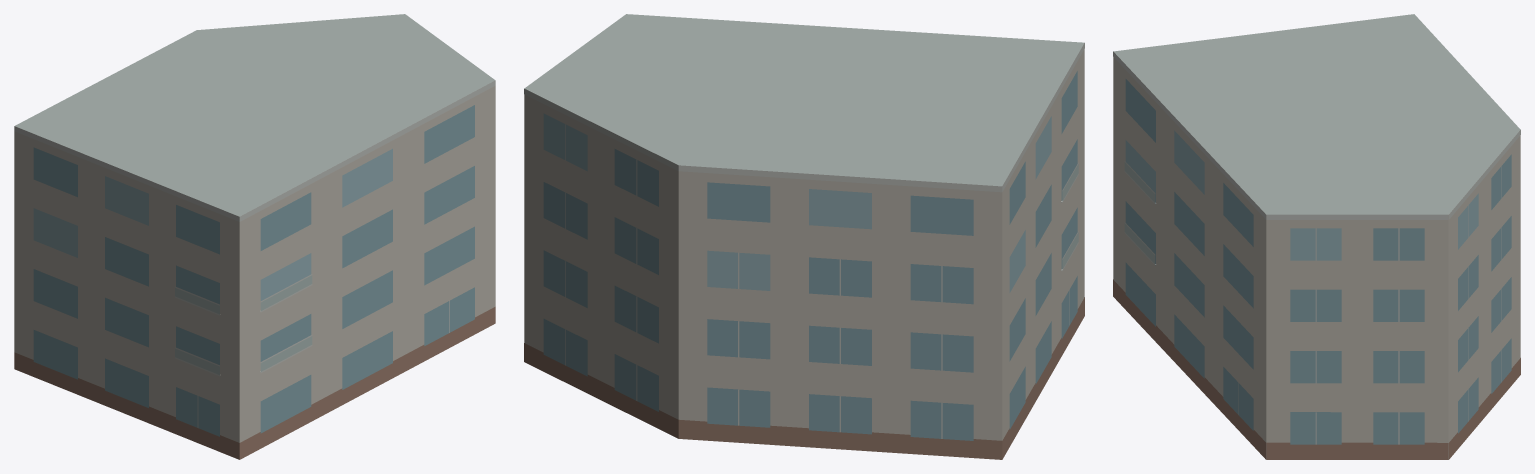
The model's file is survey-upis-32852040.glb.
The picture shows the model from 3 angles, left to right: view 1: azimuth 30°, elevation 25°; view 2: azimuth 150°, elevation 25°; view 3: azimuth 270°, elevation 25°; orthographic projection. The views are drawn at different scales.
Visible parts, largest first — view 1: survey-upis-32852040.tmp; view 2: survey-upis-32852040.tmp; view 3: survey-upis-32852040.tmp.
Part boxes in pixels (x1,y1,x2,y2): survey-upis-32852040.tmp: (14, 14, 495, 459); survey-upis-32852040.tmp: (524, 14, 1084, 459); survey-upis-32852040.tmp: (1113, 14, 1520, 459).
Bounding box in the file's own units: 19.85 × 11.3 × 17.03.
